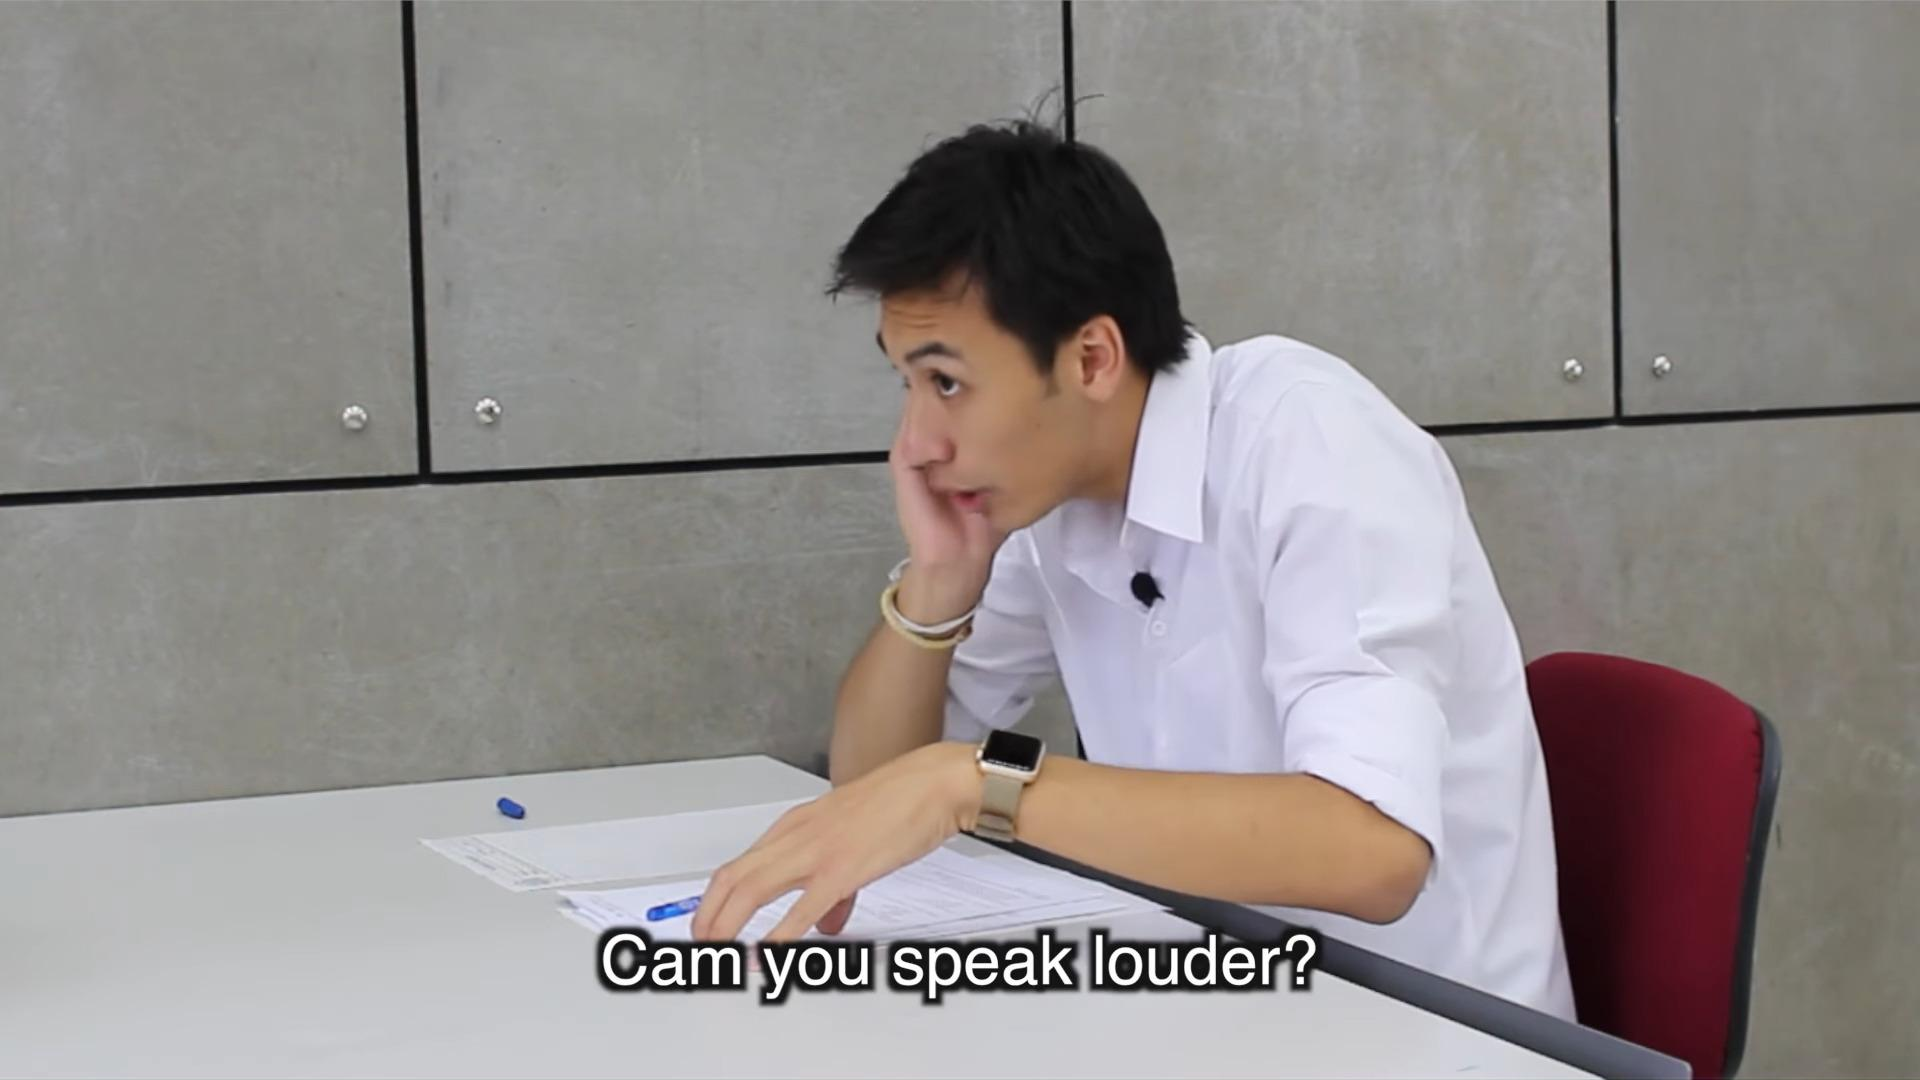cheating: (405, 100, 1606, 913)
